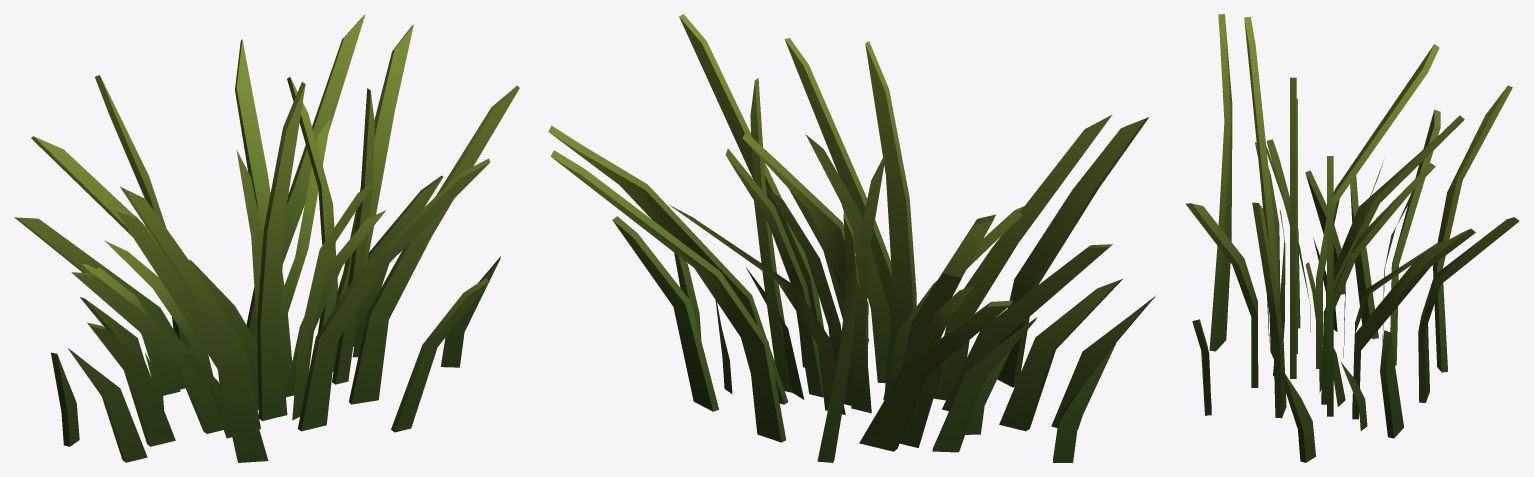
The model's file is grass.glb.
3 renders of one model, left to right at view 1: azimuth 30°, elevation 25°; view 2: azimuth 150°, elevation 25°; view 3: azimuth 270°, elevation 25°, orthographic. The views are drawn at different scales.
Parts seen in each view (by area): view 1: Grass_Large_Extruded, Grass_Small; view 2: Grass_Large_Extruded, Grass_Small; view 3: Grass_Large_Extruded, Grass_Small.
Boxes of the visible parts, <box> form: Grass_Large_Extruded: <box>14,14,519,462</box>; Grass_Small: <box>82,118,385,438</box>; Grass_Large_Extruded: <box>548,14,1155,462</box>; Grass_Small: <box>668,134,1024,447</box>; Grass_Large_Extruded: <box>1185,14,1519,462</box>; Grass_Small: <box>1265,144,1444,430</box>.
Bounding box in the file's own units: 1.46 × 1 × 0.9773.
1 material, 1 textured.
